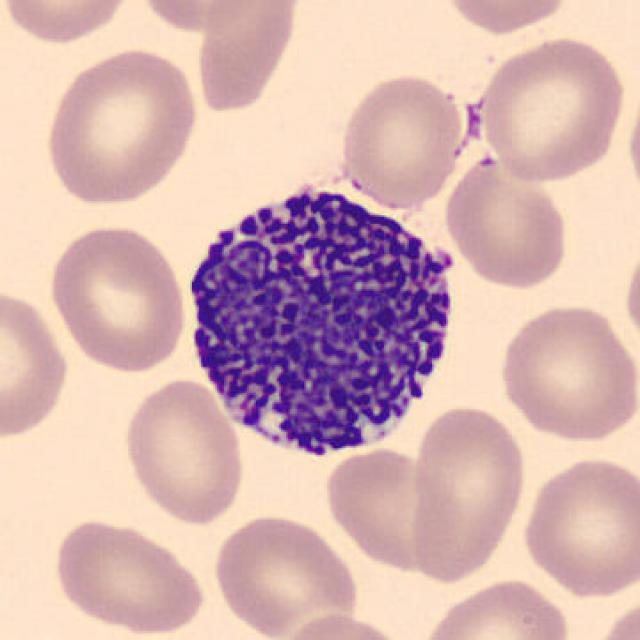Basophil: (171, 165, 473, 472)
RBC: (39, 44, 203, 208), (470, 32, 630, 185), (405, 400, 530, 586), (44, 220, 190, 376), (494, 300, 636, 446), (119, 376, 249, 527), (48, 515, 210, 636), (208, 510, 361, 638), (336, 69, 469, 210), (322, 442, 460, 574), (441, 152, 572, 291), (518, 453, 638, 600), (188, 0, 306, 118), (0, 282, 73, 446), (414, 575, 574, 640), (0, 0, 137, 48), (134, 0, 276, 37), (439, 0, 576, 37), (270, 610, 412, 640), (620, 229, 640, 358), (588, 592, 638, 640), (624, 68, 640, 212)
